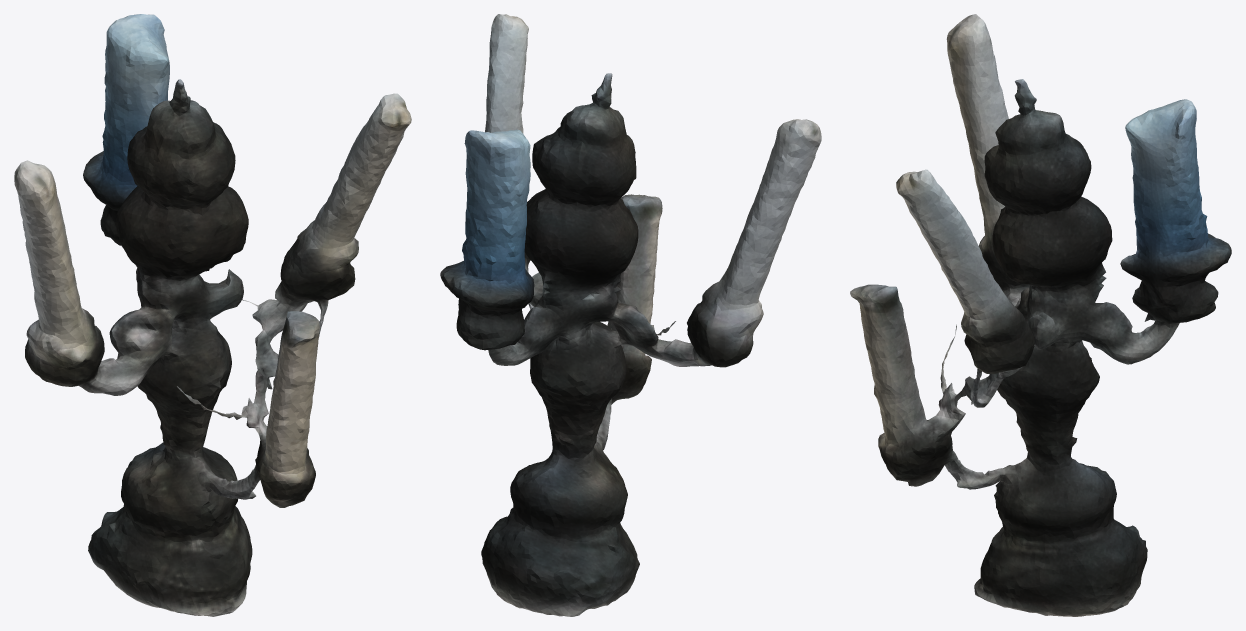
Rendered from IMG_SEG_18.glb.
3 renders of one model, left to right at view 1: azimuth 30°, elevation 25°; view 2: azimuth 150°, elevation 25°; view 3: azimuth 270°, elevation 25°, orthographic. The views are drawn at different scales.
Size of the model in its own units: 0.7528 by 1.05 by 0.7119.
Materials: 1 (1 with a texture image).
